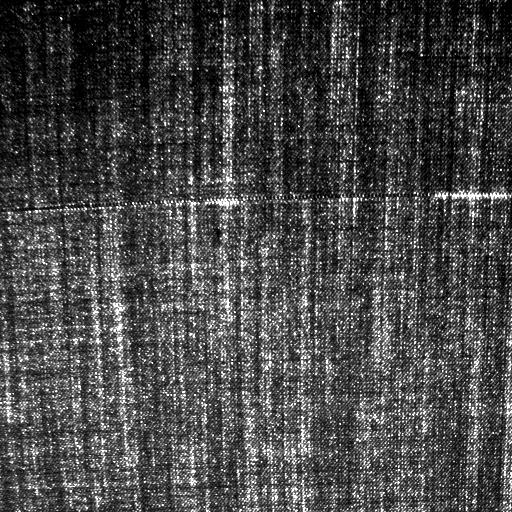fabric_hole: (44, 187, 504, 211)
